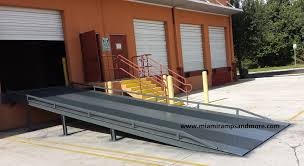Yard Ramp: (5, 85, 291, 158)
